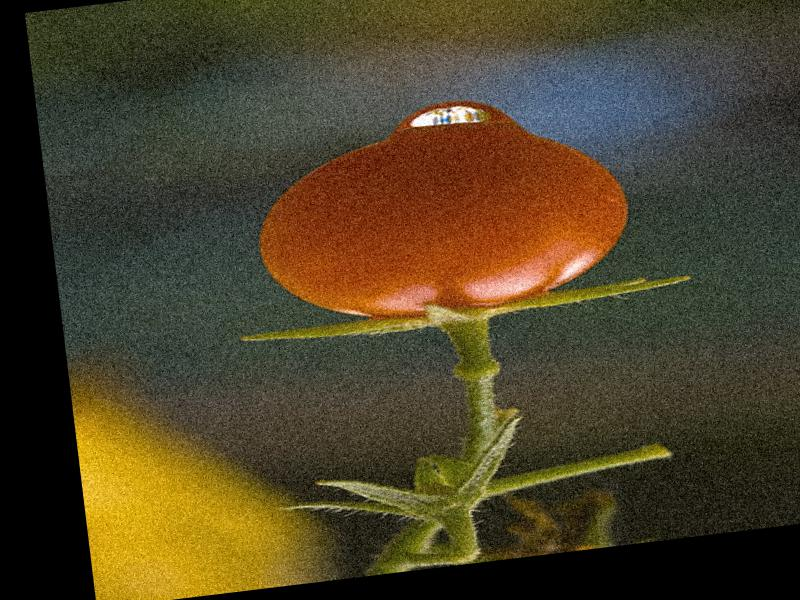Tomato: (251, 110, 641, 335)
